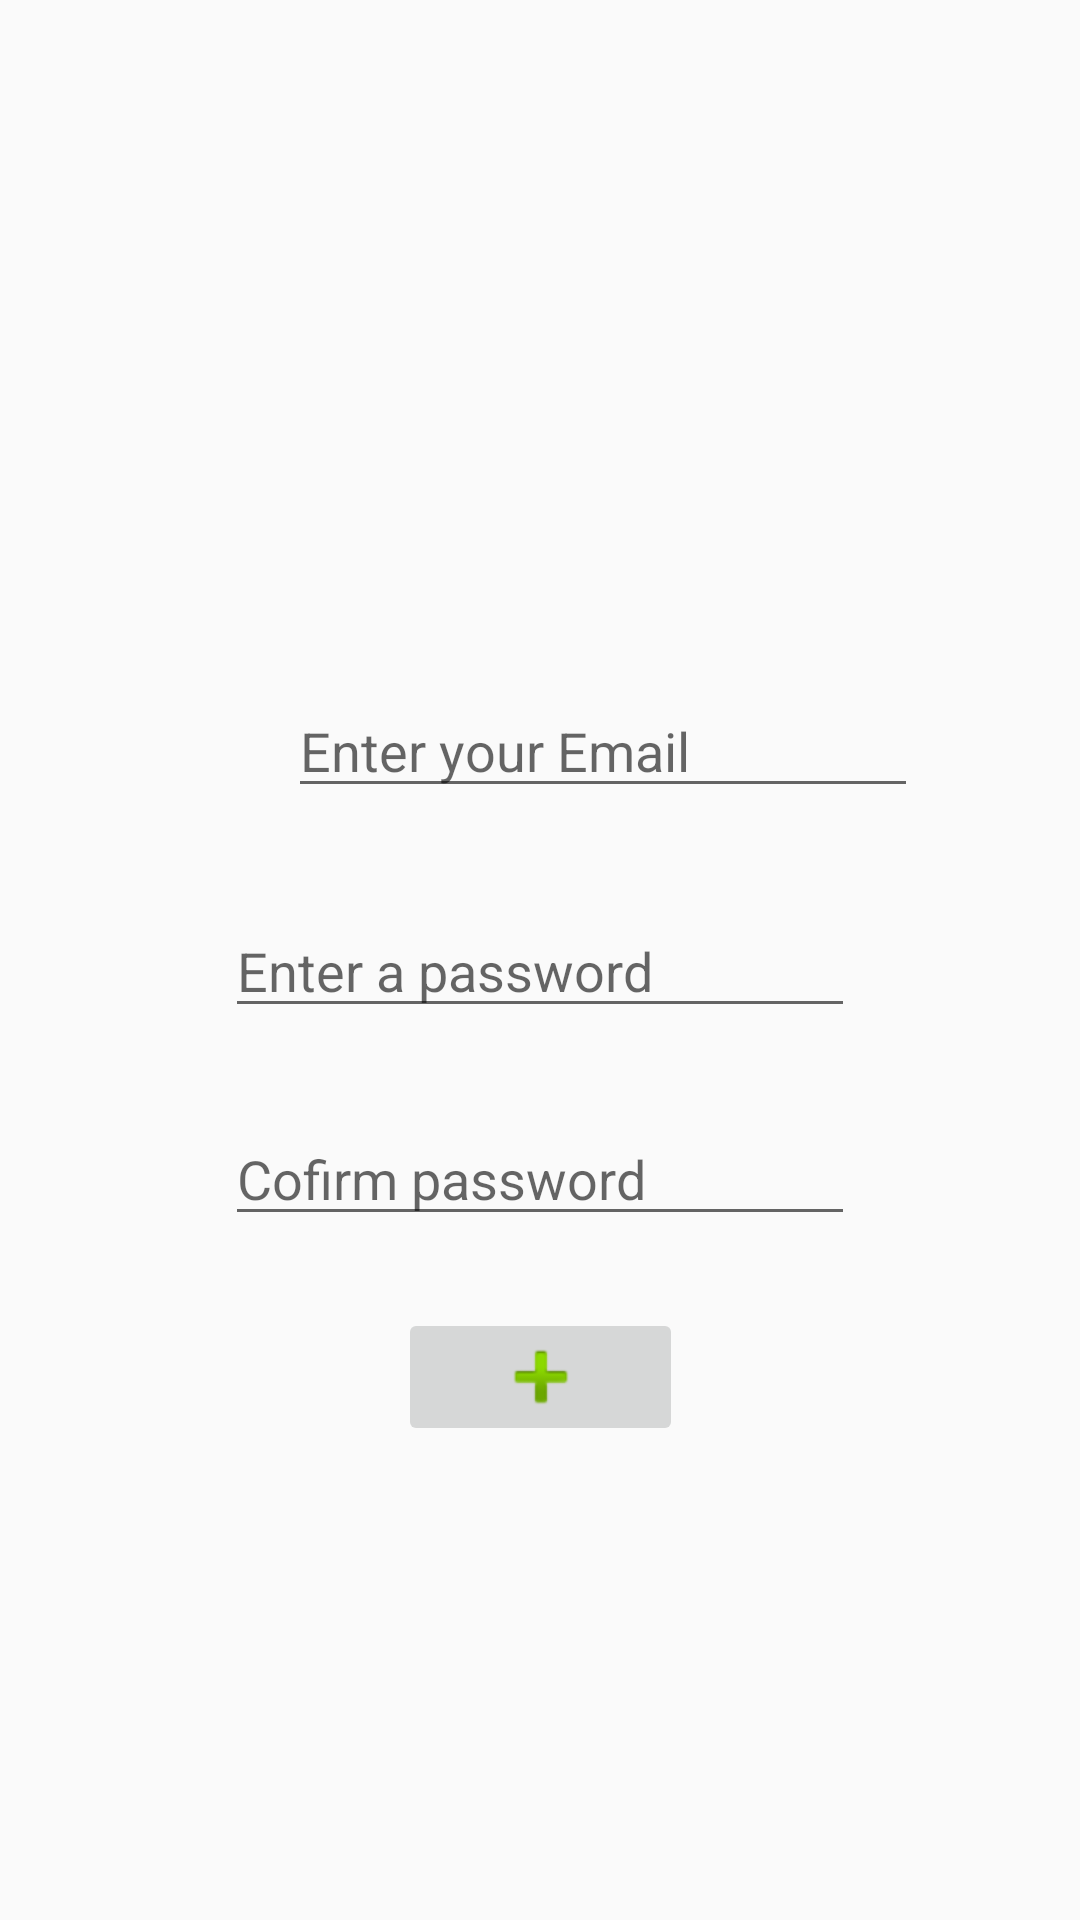

Named icons in this screenshot (1080w x 1920h) and their bounding boxes, (x1, y1, x2, y2):
add: (410, 1326, 671, 1428)
